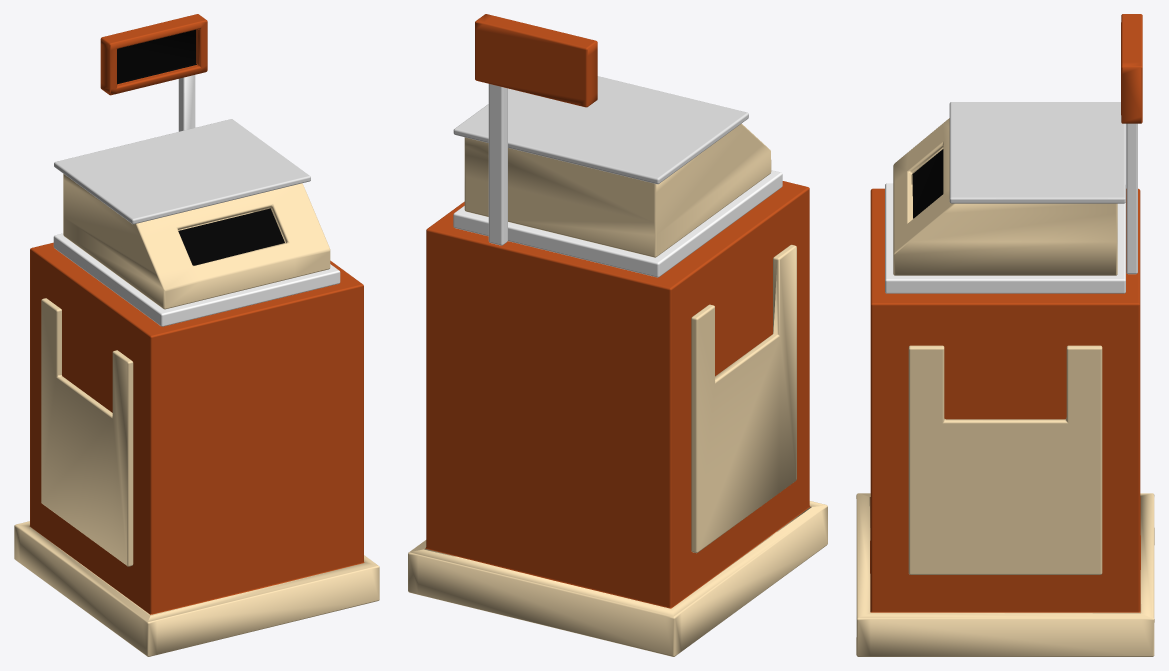
Rendered from ss-kiosk.lod0.glb.
The picture shows the model from 3 angles, left to right: view 1: azimuth 30°, elevation 25°; view 2: azimuth 150°, elevation 25°; view 3: azimuth 270°, elevation 25°; orthographic projection. The views are drawn at different scales.
Parts seen in each view (by area): view 1: Object_84, Object_85; view 2: Object_84, Object_85; view 3: Object_84, Object_85.
Part boxes in pixels (box(x1,y1,x2,y2)): Object_84: box(29, 14, 364, 614); Object_85: box(14, 174, 379, 656); Object_84: box(425, 14, 810, 608); Object_85: box(408, 123, 827, 656); Object_84: box(870, 14, 1142, 612); Object_85: box(856, 118, 1154, 656).
Size of the model in its own units: 1.01 by 2.1 by 1.01.
